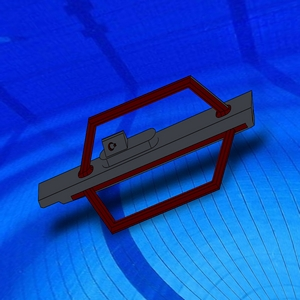submarine: (37, 74, 257, 237)
